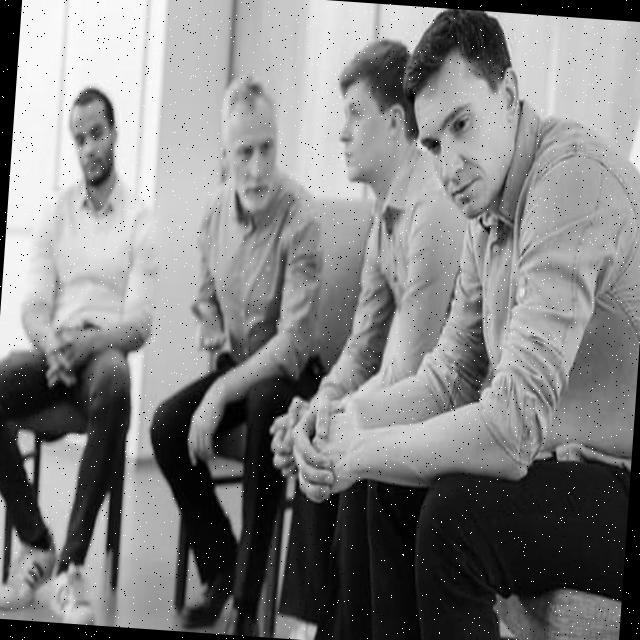Sadness: (408, 68, 499, 218)
